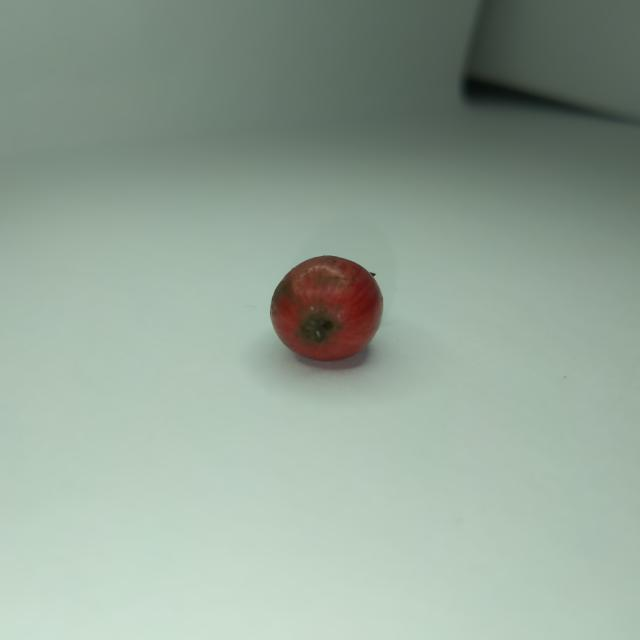Infectado: (270, 256, 382, 361)
